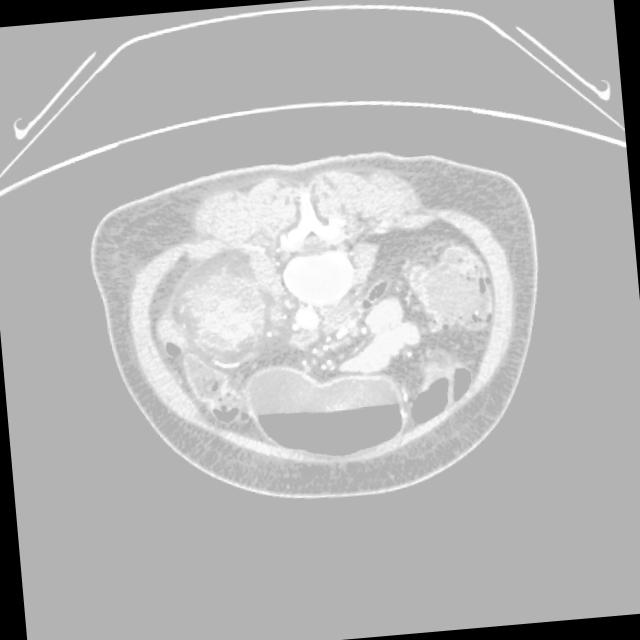TUMOR: (161, 183, 496, 366)
